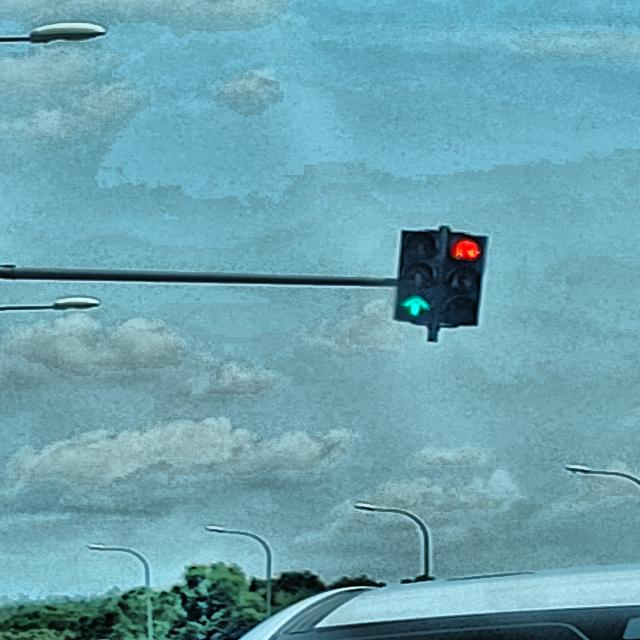green: (393, 228, 448, 324)
red: (442, 230, 488, 328)
